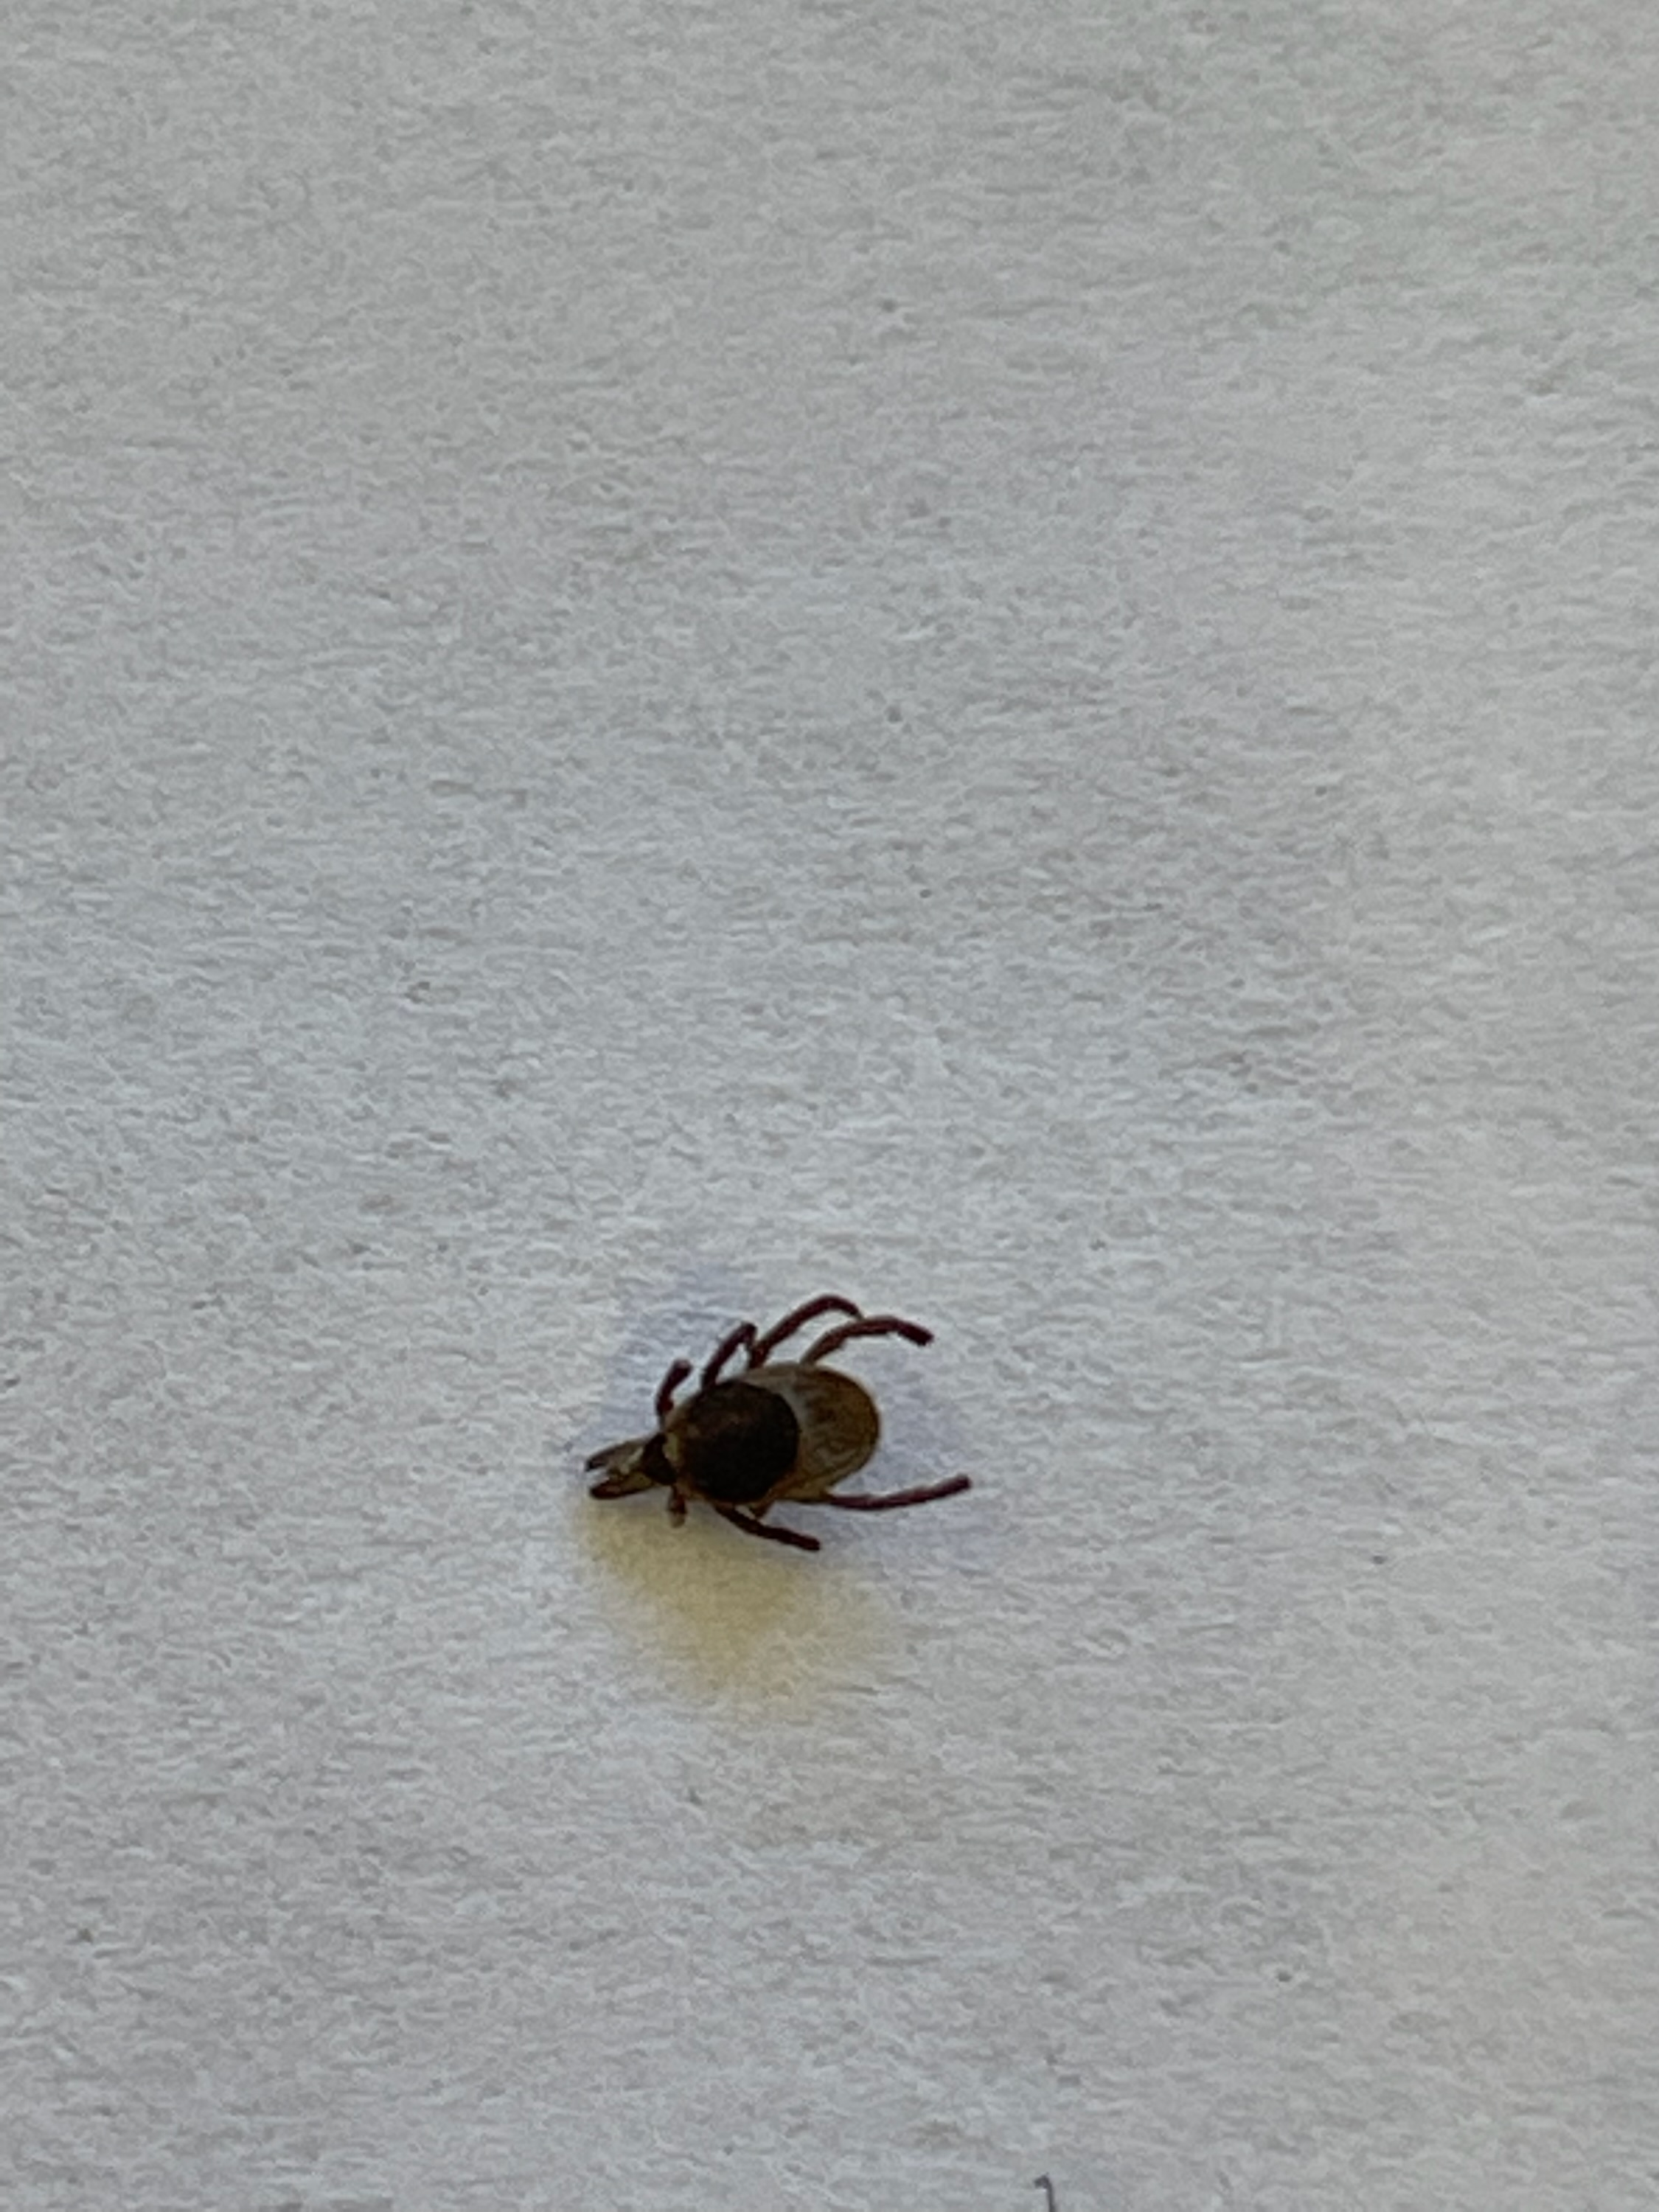unlabelled_tick: (557, 1271, 995, 1585)
